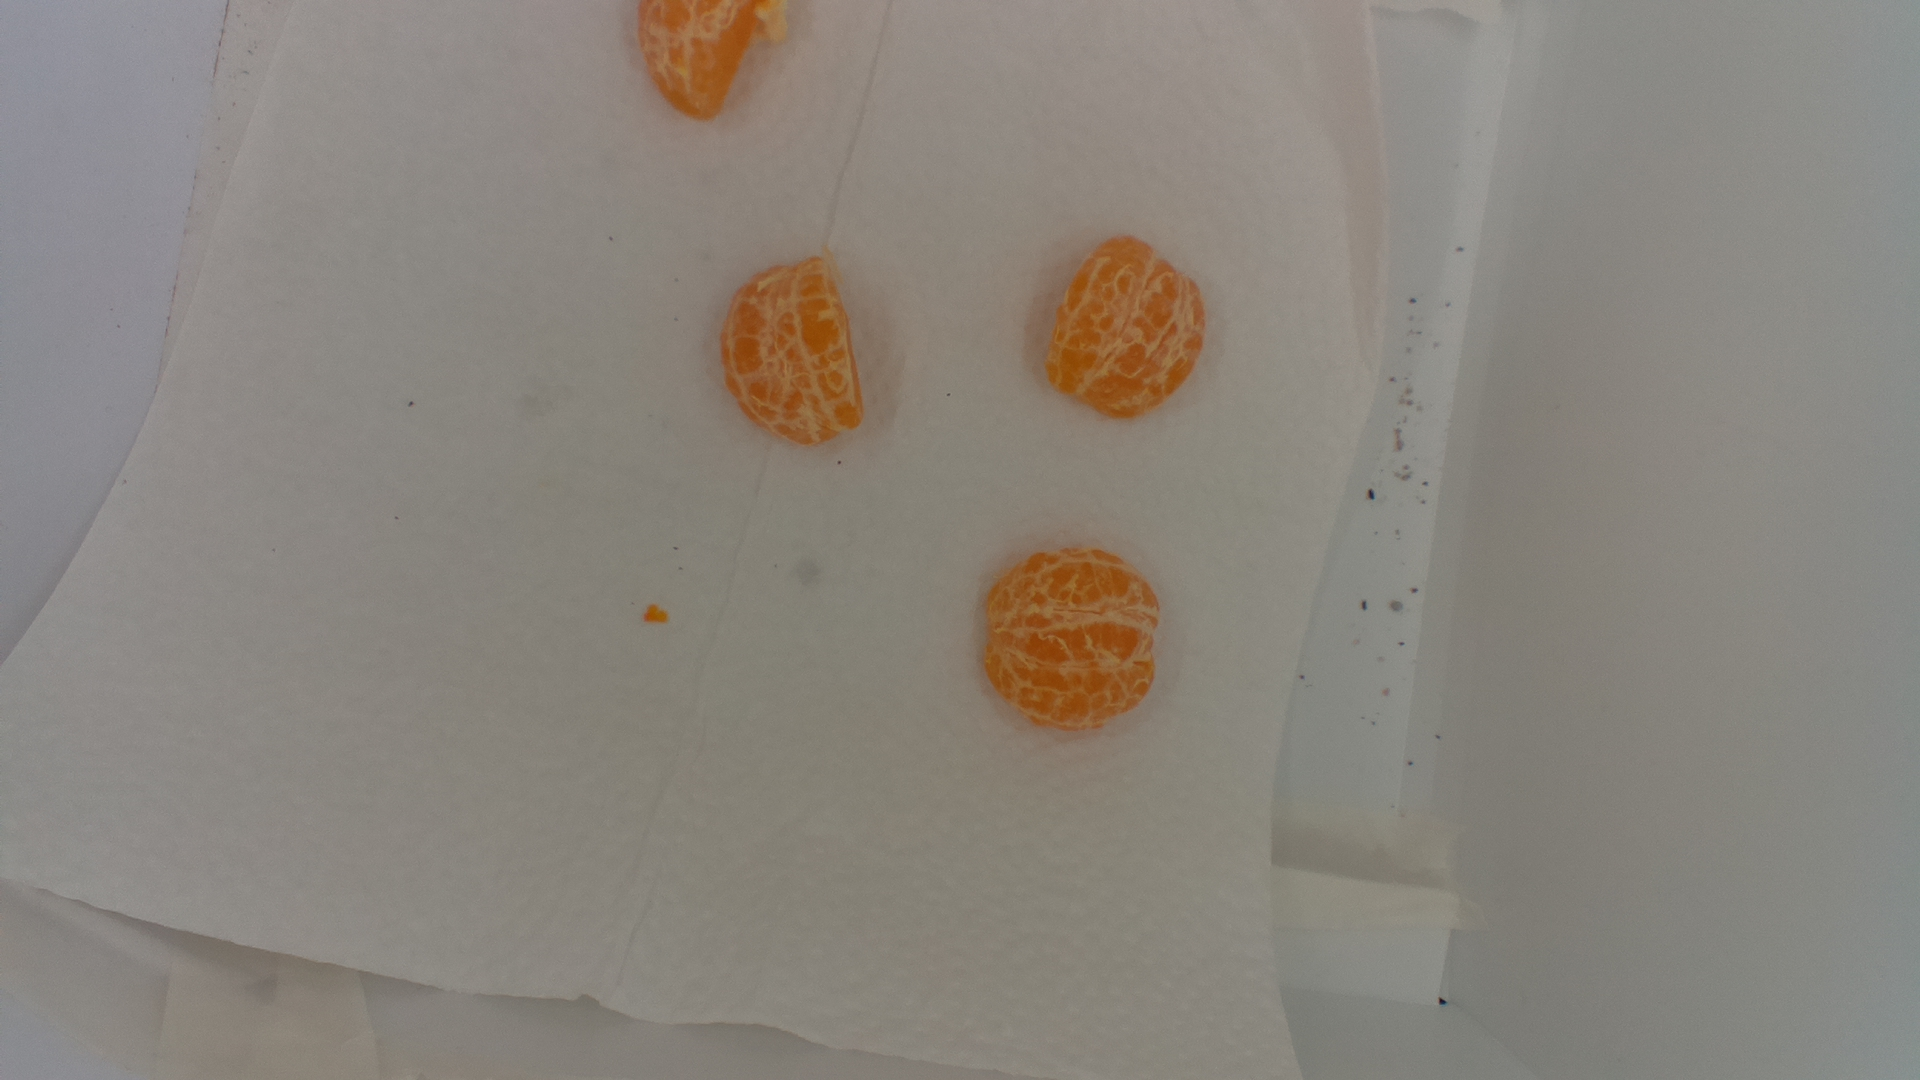fruit: (975, 543, 1166, 737), (709, 247, 873, 452), (1034, 231, 1212, 417), (630, 1, 791, 127)
